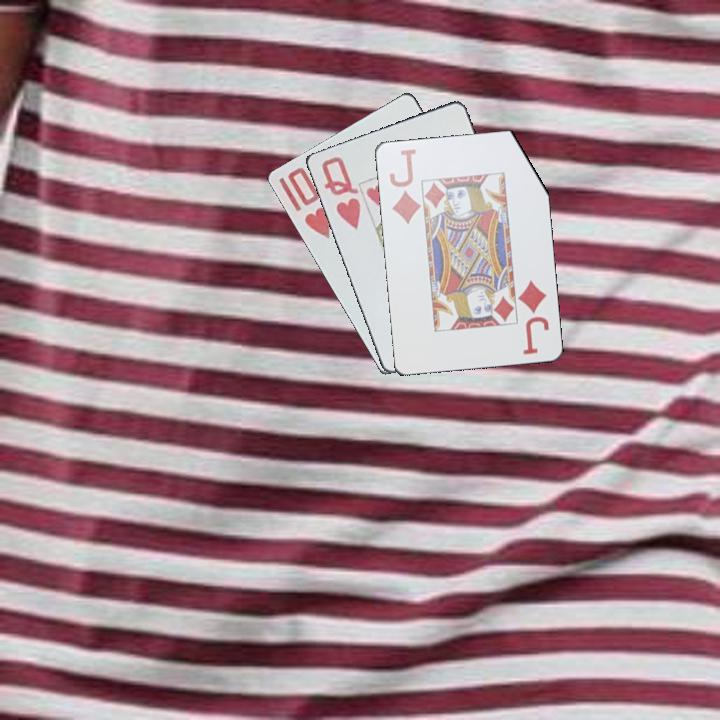Jd: (385, 145, 422, 227), (515, 276, 552, 357)
Qh: (315, 151, 363, 232)
Th: (284, 163, 332, 242)
